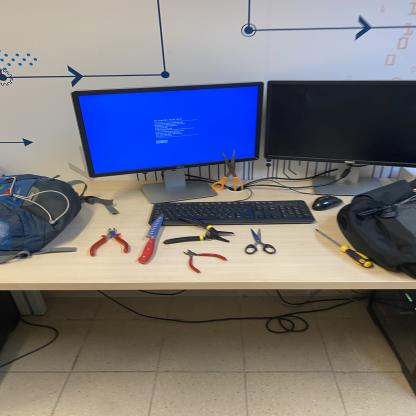Knife: (137, 212, 165, 265)
scissors: (212, 149, 244, 192), (245, 228, 276, 255)
